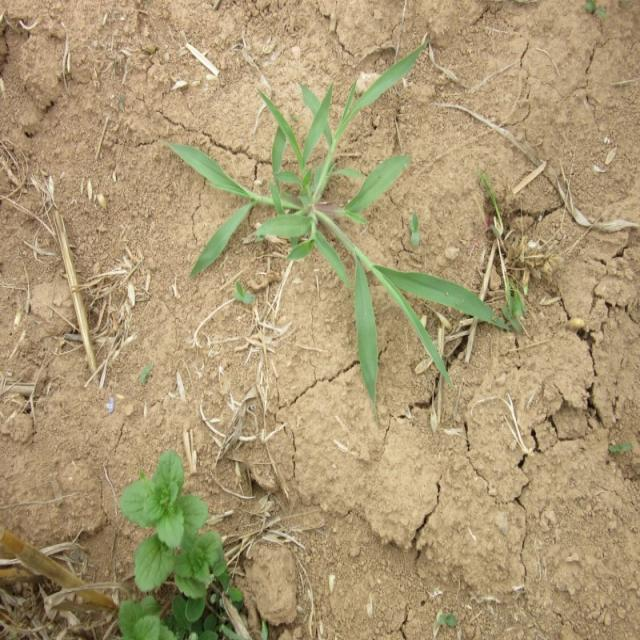bg: (176, 40, 518, 393)
